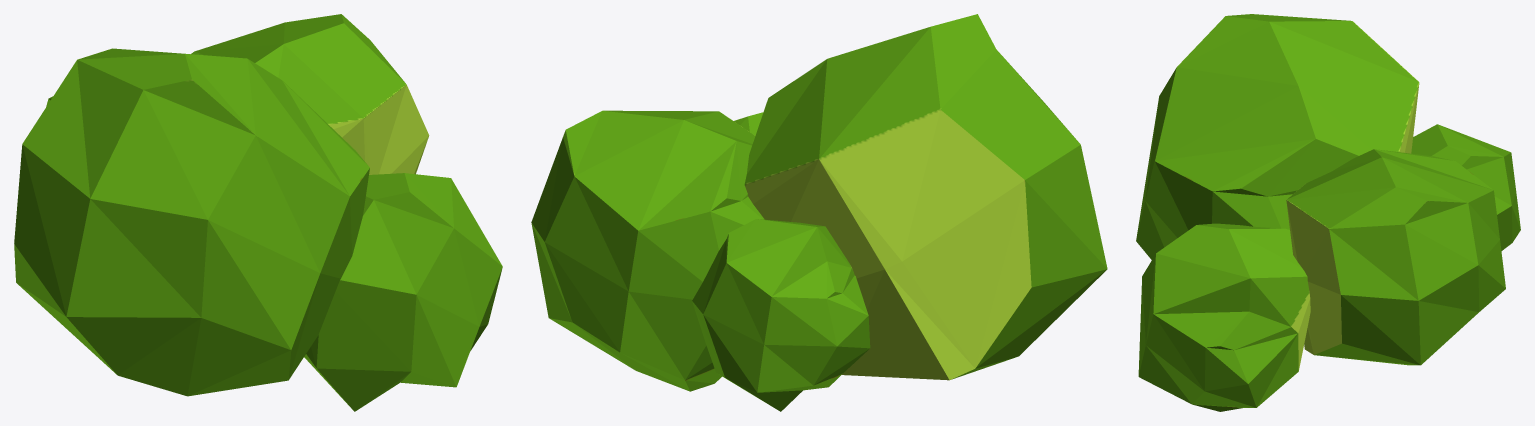
File: bush-01.obj
The picture shows the model from 3 angles, left to right: view 1: azimuth 30°, elevation 25°; view 2: azimuth 150°, elevation 25°; view 3: azimuth 270°, elevation 25°; orthographic projection. The views are drawn at different scales.
Parts seen in each view (by area): view 1: bush-01_Cube.020; view 2: bush-01_Cube.020; view 3: bush-01_Cube.020.
Boxes of the visible parts, x1,y1,x2,y2 form: bush-01_Cube.020: [14, 14, 502, 411]; bush-01_Cube.020: [531, 14, 1107, 411]; bush-01_Cube.020: [1136, 14, 1520, 411].
Bounding box in the file's own units: 2.27 × 1.87 × 2.08.
